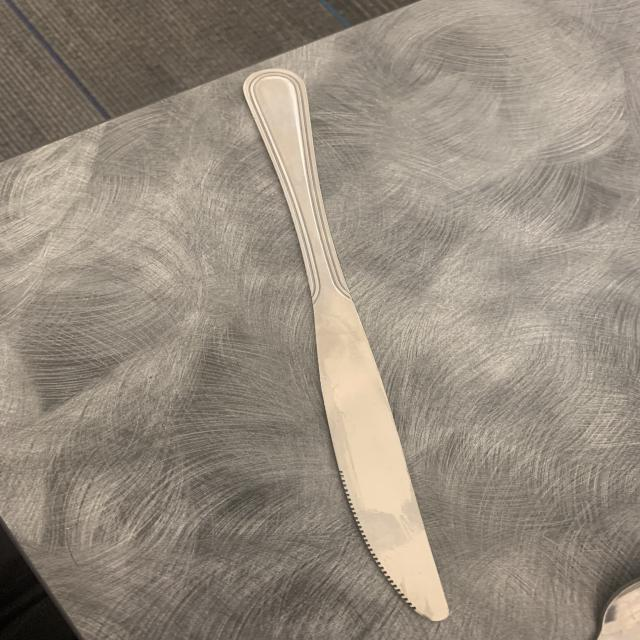knife: (217, 69, 484, 632)
